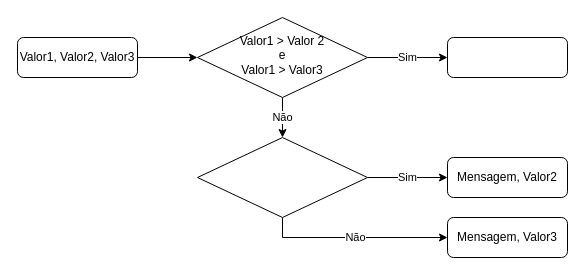
Image size: 585x275. Some labels were removed from this diagram. Each missing label, with the box of its shape:
Mensagem, Valor1: (446, 36, 568, 78)
Valor2 > Valor 1 e Valor2 > Valor3: (196, 136, 368, 218)
